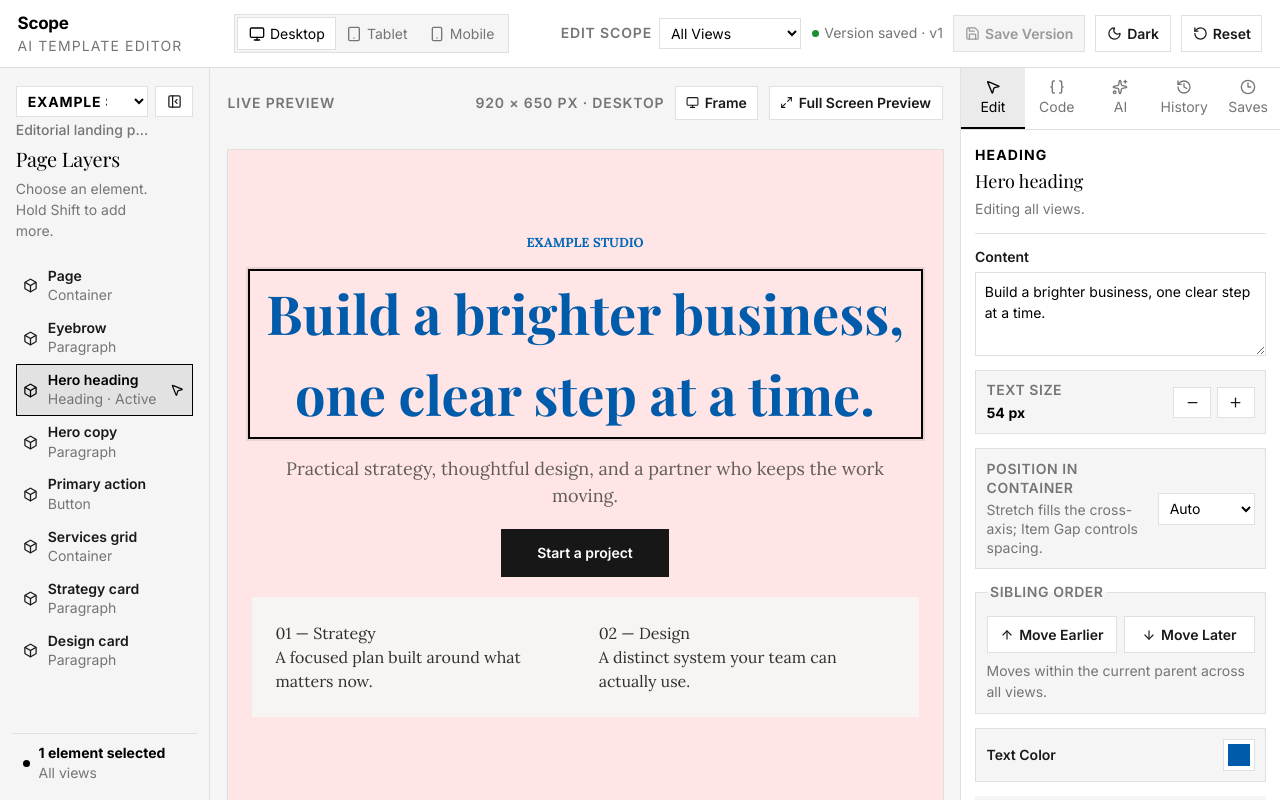
Test: switches strategy choices with native keyboard controls
Click the tab "AI" at x=1120, y=99, box [1089,68,1152,129]
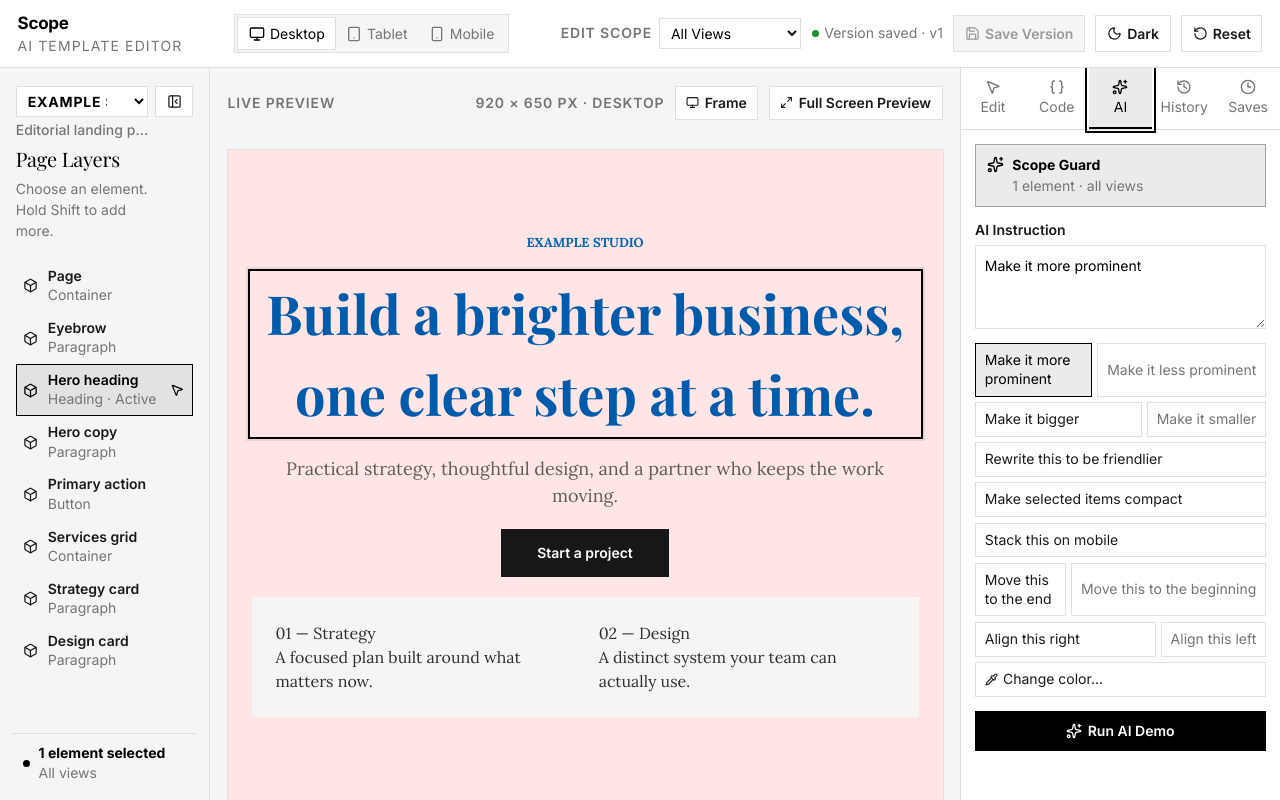
Click the button "Run AI Demo" at x=1120, y=731, box [975,711,1266,751]
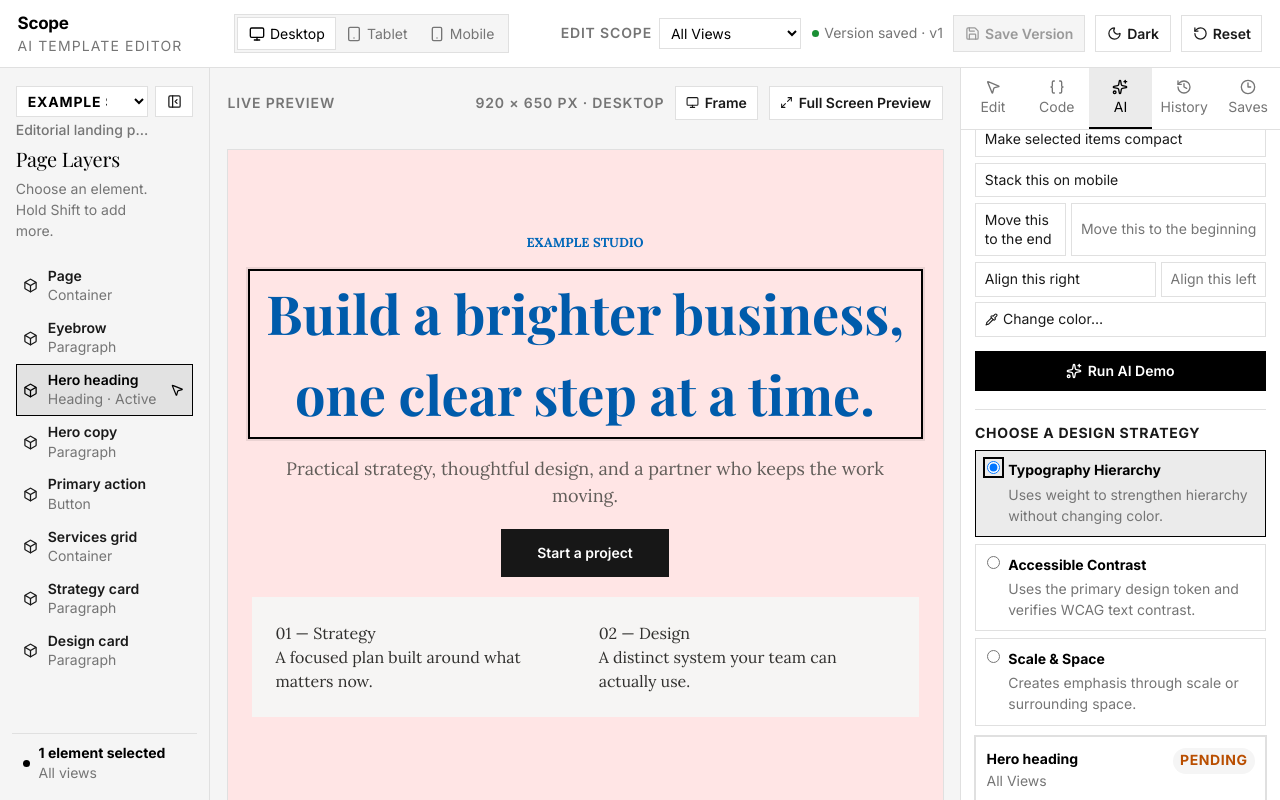
Press Arrowdown
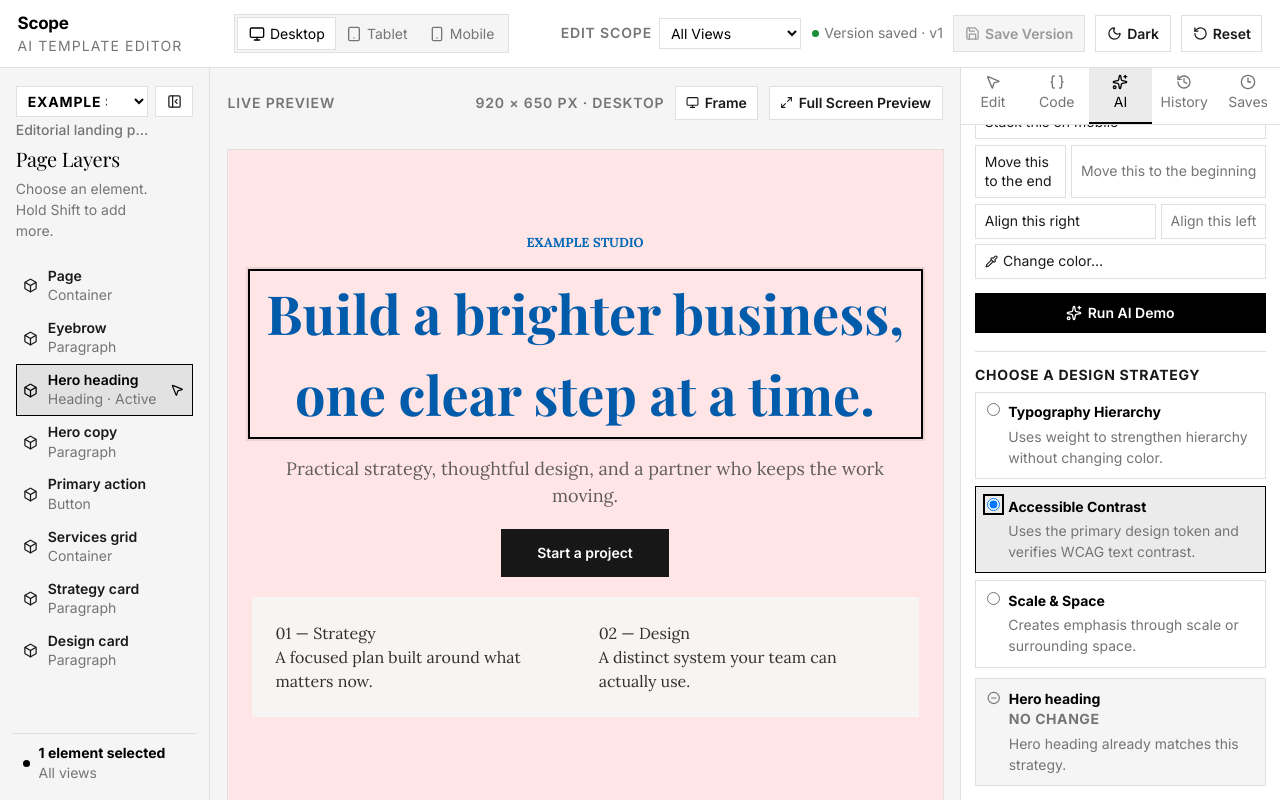
expect the radio button labelled "Accessible Contrast" is checked: met, box [986,498,1000,510]
expect the text "Hero heading already matches this strategy." is shown: met, box [1009,735,1239,773]
